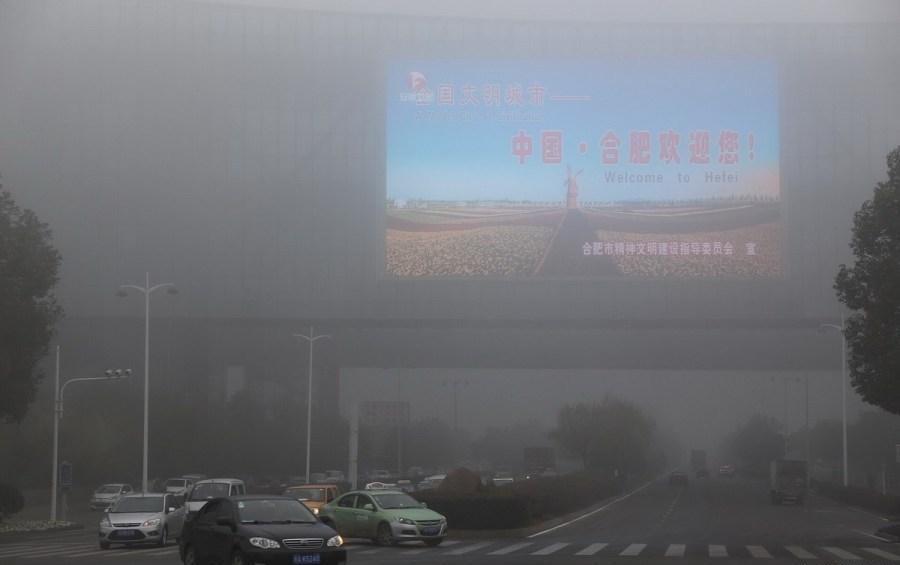bus: (768, 458, 809, 506), (690, 448, 707, 473)
car: (178, 494, 349, 564), (318, 481, 448, 546), (99, 492, 187, 546), (182, 478, 248, 528), (279, 484, 344, 528), (89, 483, 135, 510), (163, 477, 196, 507), (182, 472, 210, 500), (392, 478, 420, 501), (491, 471, 518, 493), (322, 468, 347, 489), (669, 468, 690, 486), (718, 463, 735, 477), (695, 465, 710, 477)
